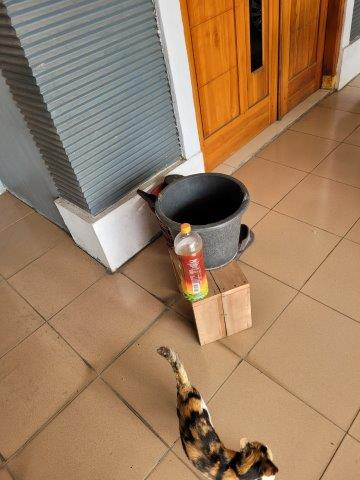botolplastik: (174, 223, 208, 297)
